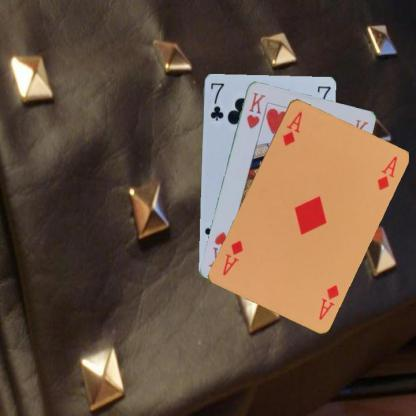7c: (208, 80, 226, 122)
Ad: (316, 282, 340, 322), (280, 108, 303, 146)
Kh: (244, 90, 267, 130)
